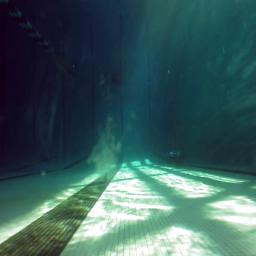front: (166, 150, 186, 166)
